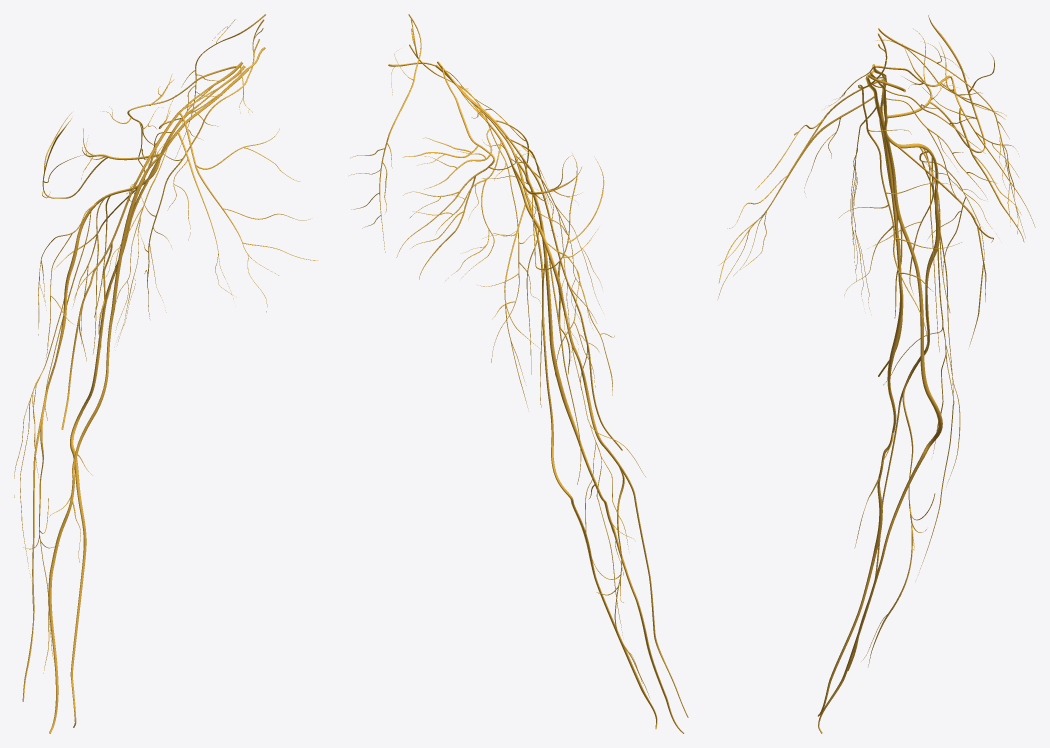
Rendered from nerves-shoulder-right.glb.
3 renders of one model, left to right at view 1: azimuth 30°, elevation 25°; view 2: azimuth 150°, elevation 25°; view 3: azimuth 270°, elevation 25°, orthographic. The views are drawn at different scales.
Visible parts, largest first — view 1: Median nerve.r, Ulnar nerve.r, Radial nerve.r, Musculocutaneus nerve.r, Lateral pectoral nerve.r, Long thoracic nerve.r, Axillary nerve - superior lateral br cutaneous nerve.r, Radial nerve (superficial br).r, Medial brachial cutaneous nerve.r, Radial nerve (posterior antebrachial cutaneous n).r, Suprascapular nerve.r, Radial nerve (inferior lateral brachial cutaneous n).r; view 2: Median nerve.r, Radial nerve.r, Ulnar nerve.r, Suprascapular nerve.r, Musculocutaneus nerve.r, Axillary nerve - superior lateral br cutaneous nerve.r, Long thoracic nerve.r, Dorsal scapular nerve.r, Radial nerve (posterior antebrachial cutaneous n).r, Radial nerve (superficial br).r, Lower subscapular nerve.r, Medial brachial cutaneous nerve.r; view 3: Ulnar nerve.r, Median nerve.r, Radial nerve.r, Suprascapular nerve.r, Axillary nerve - superior lateral br cutaneous nerve.r, Long thoracic nerve.r, Radial nerve (posterior antebrachial cutaneous n).r, Lateral pectoral nerve.r, Dorsal scapular nerve.r, Radial nerve (inferior lateral brachial cutaneous n).r, Medial brachial cutaneous nerve.r, Radial nerve (posterior brachial cutaneous n).r (+2 smaller).
Boxes of the visible parts, x1,y1,x2,y2 form: Median nerve.r: (48,169,148,733); Ulnar nerve.r: (70,154,162,727); Radial nerve.r: (44,159,160,420); Musculocutaneus nerve.r: (61,146,156,429); Lateral pectoral nerve.r: (179,112,318,312); Long thoracic nerve.r: (138,19,264,319); Axillary nerve - superior lateral br cutaneous nerve.r: (42,113,159,198); Radial nerve (superficial br).r: (22,398,46,701); Medial brachial cutaneous nerve.r: (99,147,167,341); Radial nerve (posterior antebrachial cutaneous n).r: (14,299,63,580); Suprascapular nerve.r: (102,65,237,180); Radial nerve (inferior lateral brachial cutaneous n).r: (38,203,96,358); Median nerve.r: (527,179,684,733); Radial nerve.r: (512,167,603,484); Ulnar nerve.r: (516,161,657,729); Suprascapular nerve.r: (396,66,532,279); Musculocutaneus nerve.r: (521,156,622,450); Axillary nerve - superior lateral br cutaneous nerve.r: (512,153,604,270); Long thoracic nerve.r: (409,19,541,362); Dorsal scapular nerve.r: (350,14,421,252); Radial nerve (posterior antebrachial cutaneous n).r: (571,344,645,635); Radial nerve (superficial br).r: (602,444,688,717); Lower subscapular nerve.r: (412,142,517,280); Medial brachial cutaneous nerve.r: (515,154,602,360); Ulnar nerve.r: (818,112,942,733); Median nerve.r: (818,133,903,716); Radial nerve.r: (884,118,953,405); Suprascapular nerve.r: (875,43,1035,242); Axillary nerve - superior lateral br cutaneous nerve.r: (875,15,994,152); Long thoracic nerve.r: (838,33,961,352); Radial nerve (posterior antebrachial cutaneous n).r: (883,249,960,574); Lateral pectoral nerve.r: (718,79,883,298); Dorsal scapular nerve.r: (878,28,1025,238); Radial nerve (inferior lateral brachial cutaneous n).r: (867,151,984,293); Medial brachial cutaneous nerve.r: (850,106,876,308); Radial nerve (posterior brachial cutaneous n).r: (896,145,993,346).
Size of the model in its own units: 0.2727 by 0.6365 by 0.2181.
